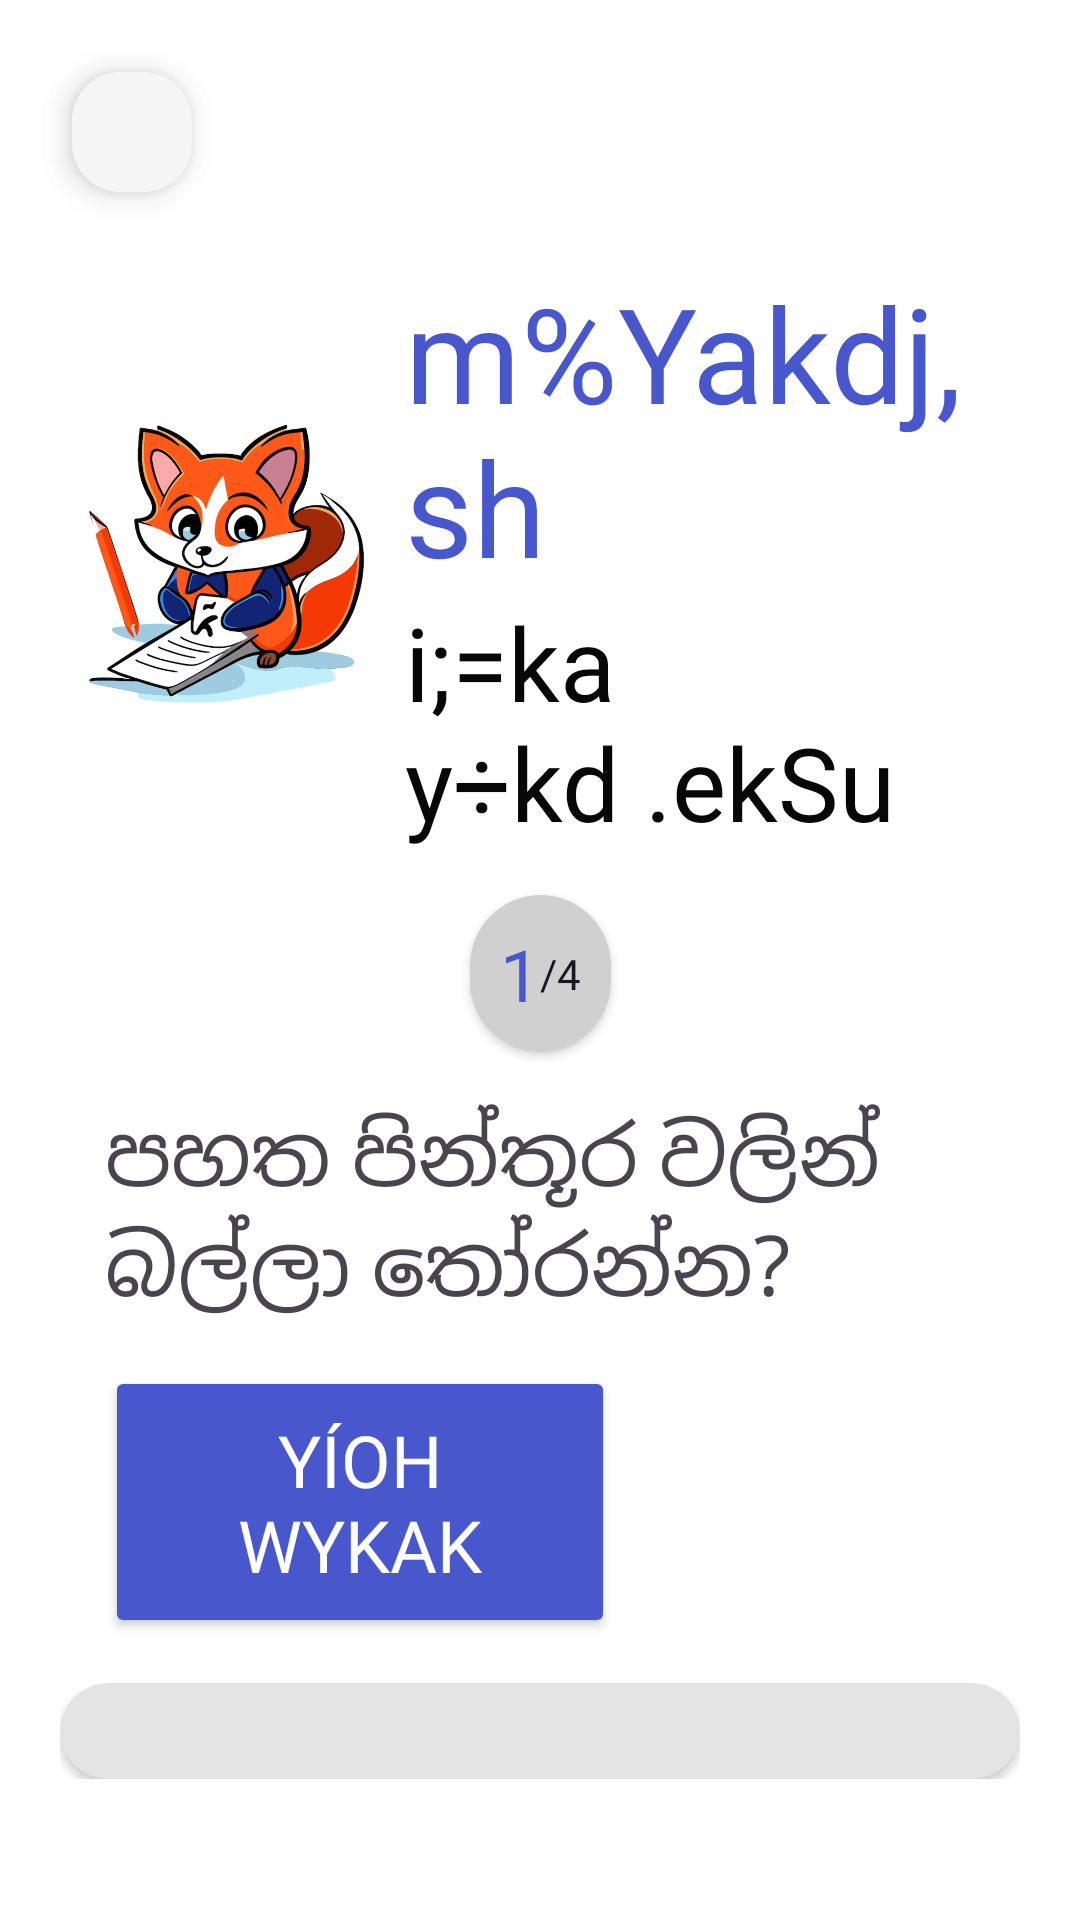

Icon bounding boxes for this 1080×1920 phone screenshot, format (x1, y1, x2, y2):
quiz animal: (89, 425, 364, 703)
